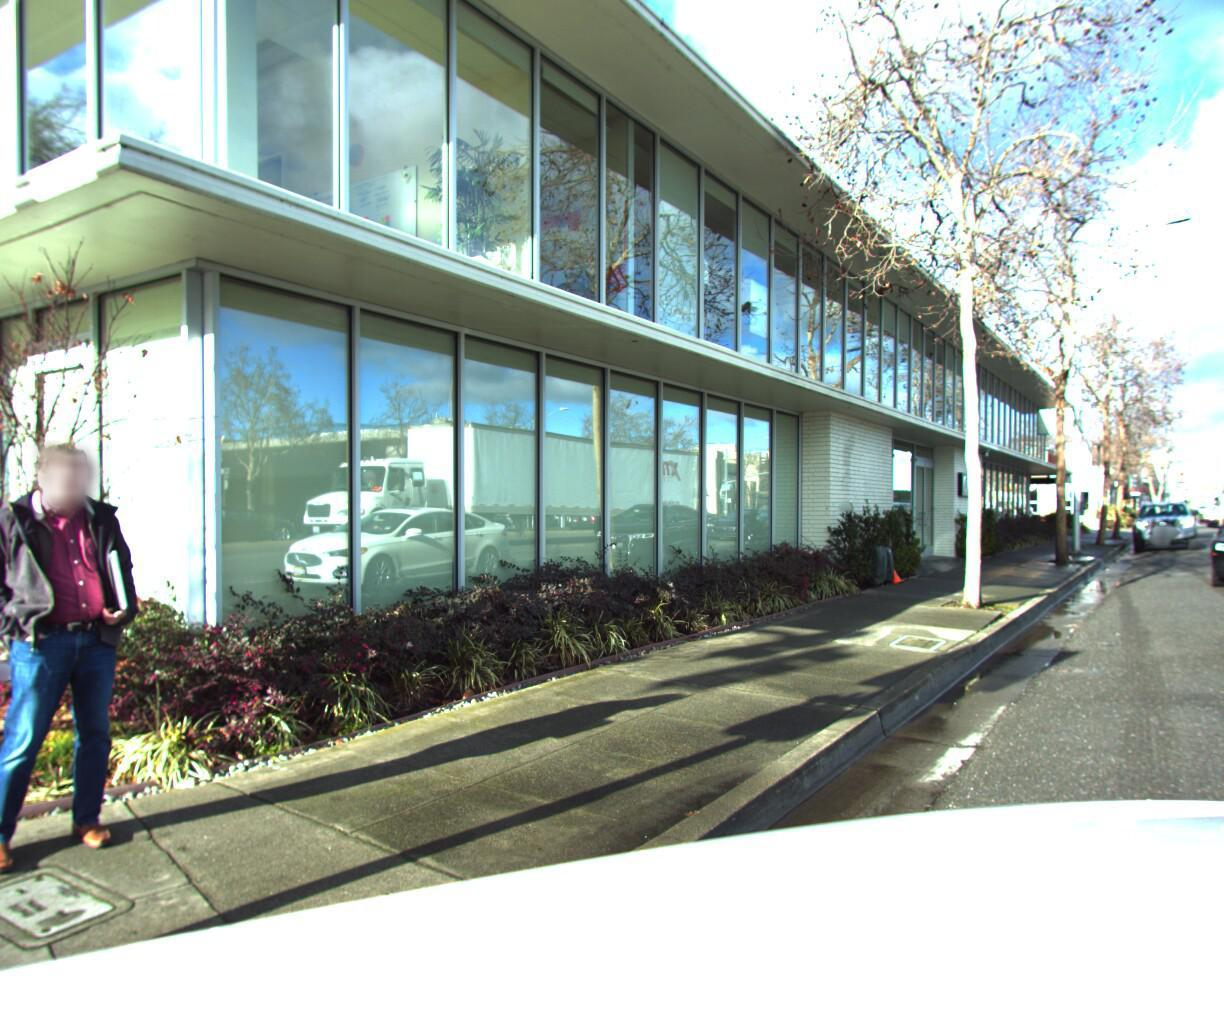car: (1137, 495, 1203, 552), (1212, 493, 1224, 589)
